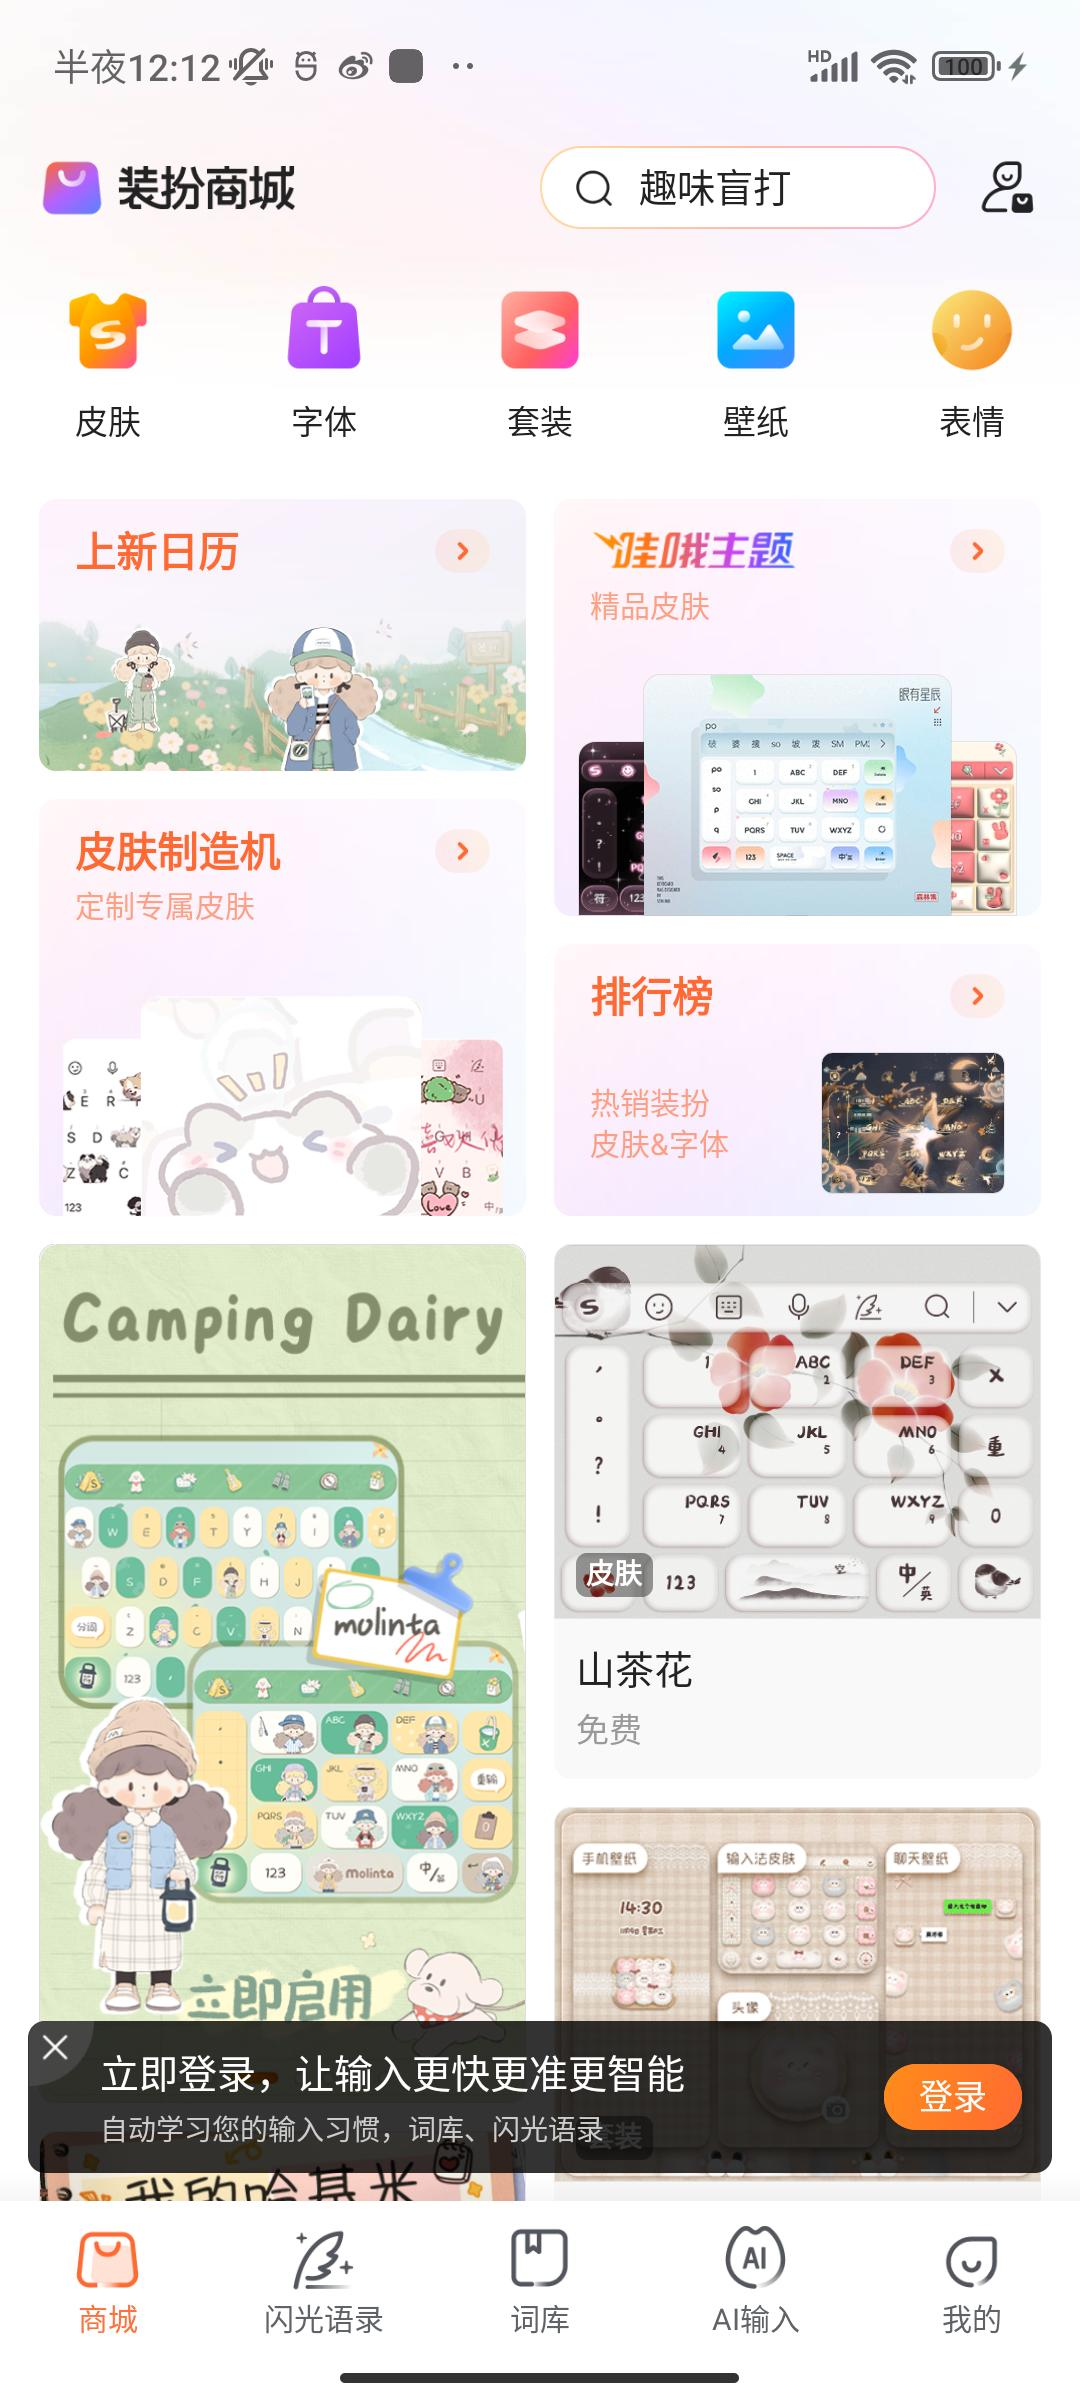ui_group: (552, 1247, 1052, 1763), (554, 511, 1036, 940), (41, 804, 512, 1215), (24, 2027, 1046, 2164), (554, 964, 1042, 1211)
